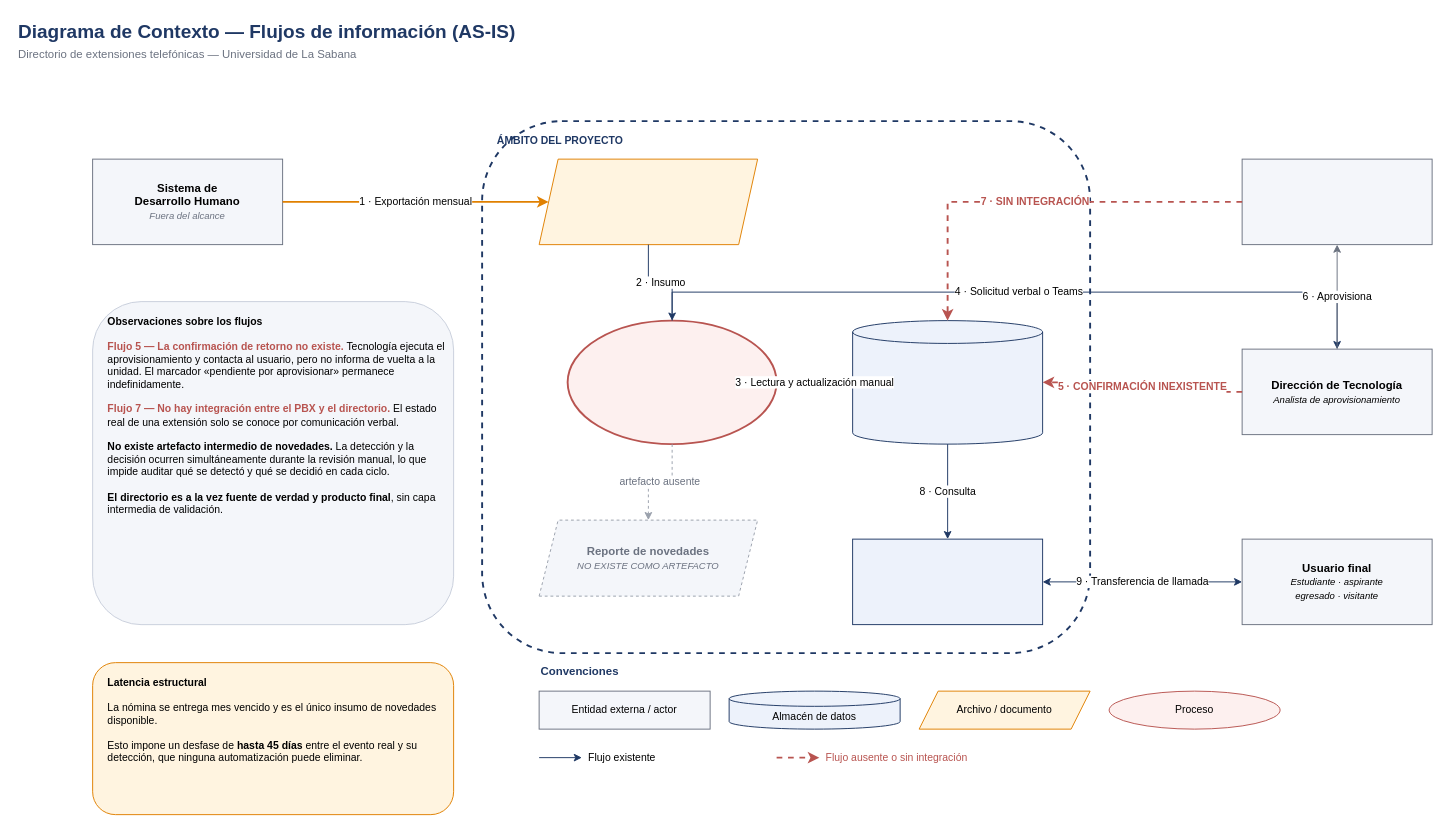
Some shapes in this 1449 by 831 pixel diagram are drawn without their labels. The centre of each missing label's shape, as x and y in pixels:
"Archivo de nómina .xlsx · mes vencido ≈ día 15 del mes siguiente" belongs at [648,201].
"CONCILIACIÓN Comparación manual registro por registro ≈ 6.400 filas" belongs at [671,382].
"Directorio de extensiones .xlsx en OneDrive ≈ 6.400 registros" belongs at [947,382].
"Gestoras de servicio (×4) Consulta en solo lectura" belongs at [947,581].
"Plataforma de telefonía (PBX) Fuera del alcance" belongs at [1336,201].
